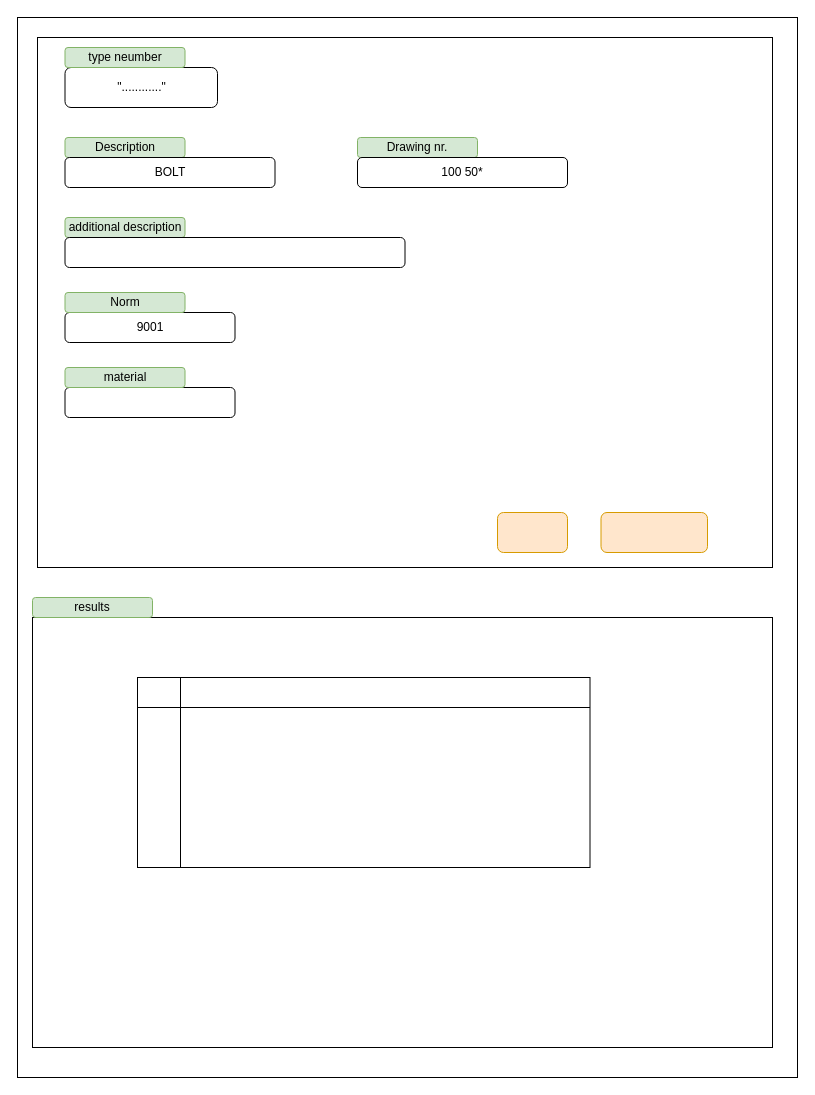
This 815x1095 diagram has some shape labels left out. Here are the shapes that lost their labels. From the top down, the centre of each, then its label:
At (x=234, y=252): "M5x10".
At (x=532, y=532): "RESET".
At (x=654, y=532): "SEARCH".
At (x=363, y=772): "dawing nr. / satus /".
